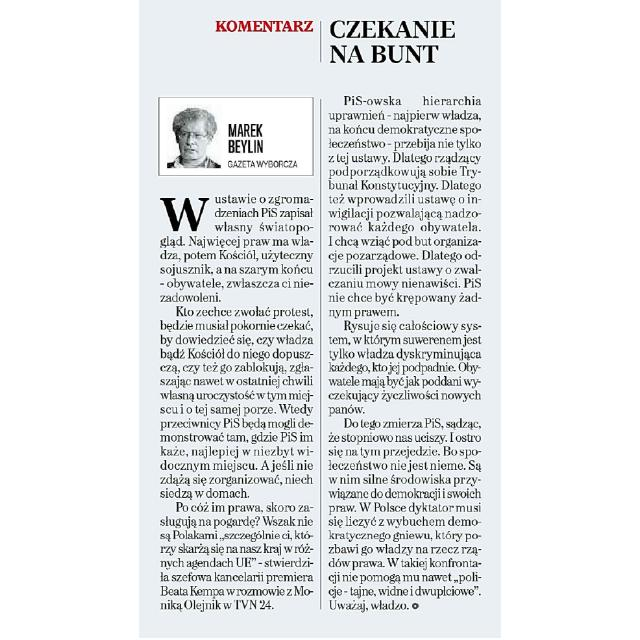author: (224, 119, 276, 157)
body: (324, 91, 488, 617), (151, 186, 319, 620)
title: (323, 13, 467, 73)
